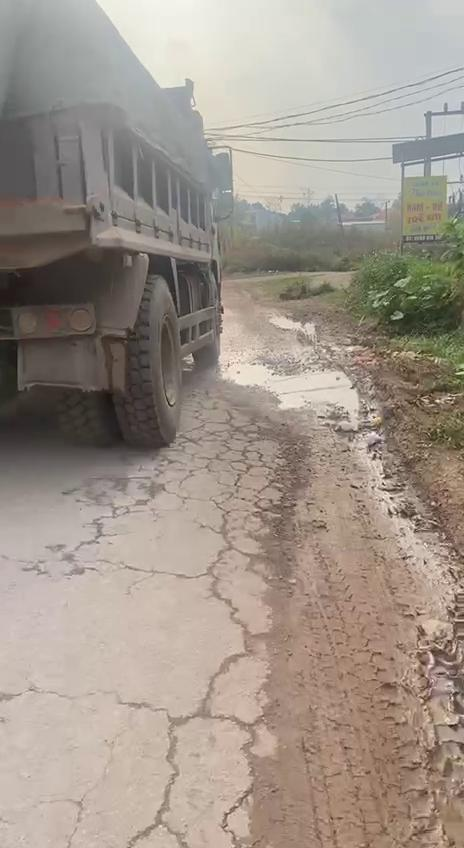pothole: (229, 350, 363, 418)
